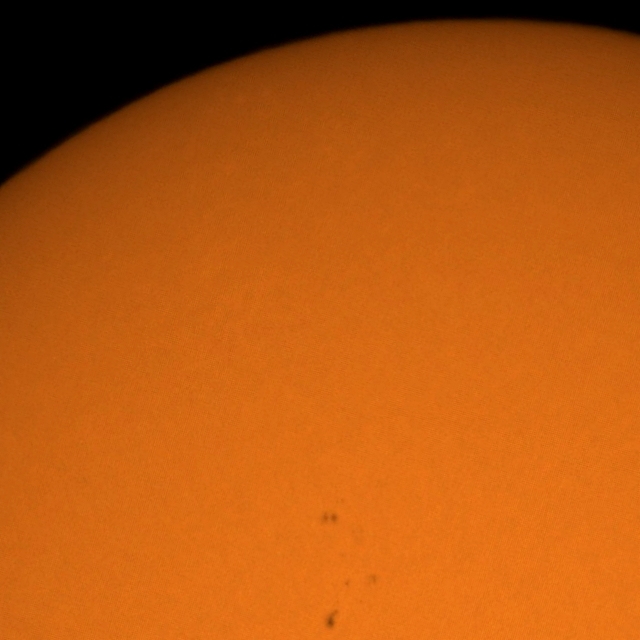sunspot: (323, 608, 341, 632), (320, 511, 340, 527), (343, 578, 351, 588)
